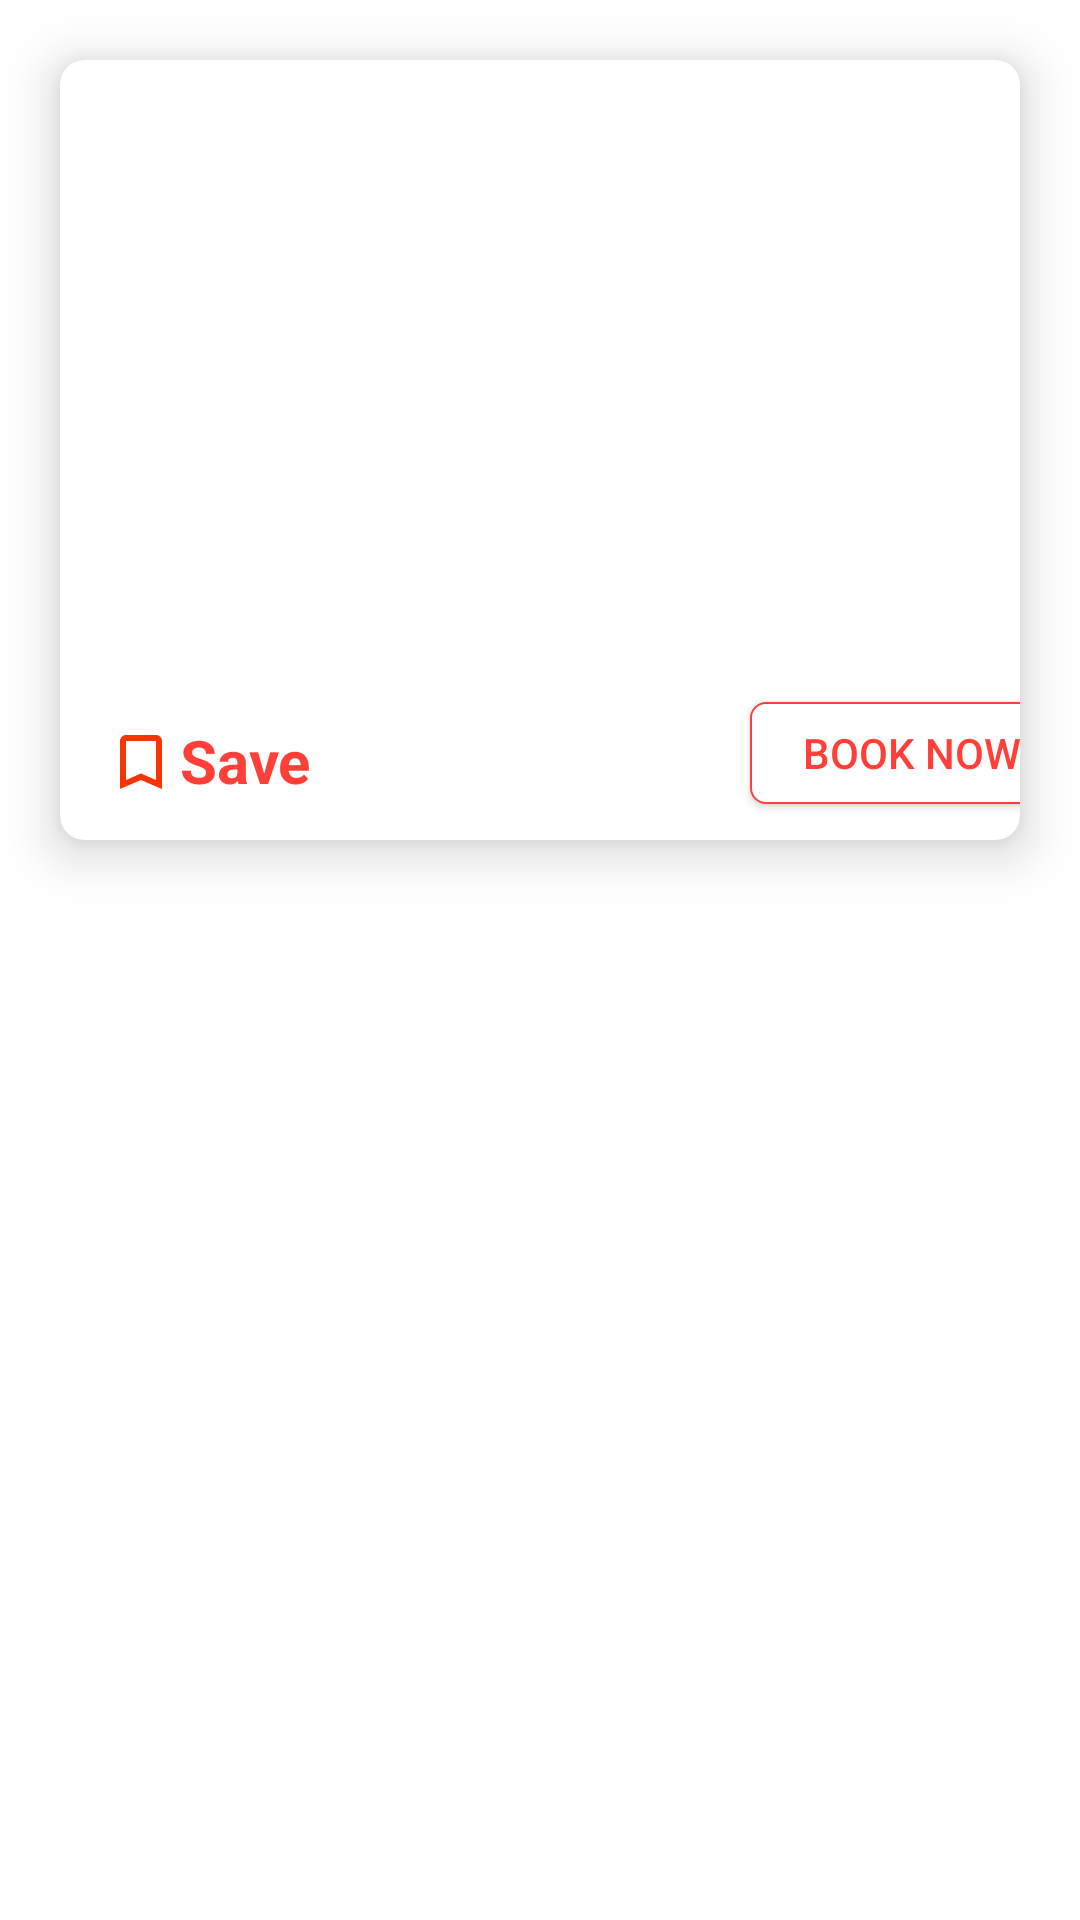

Point at icon controls on the screen. Image size 1080px×1920px, points as (x,y).
bookmark: (141,762)
